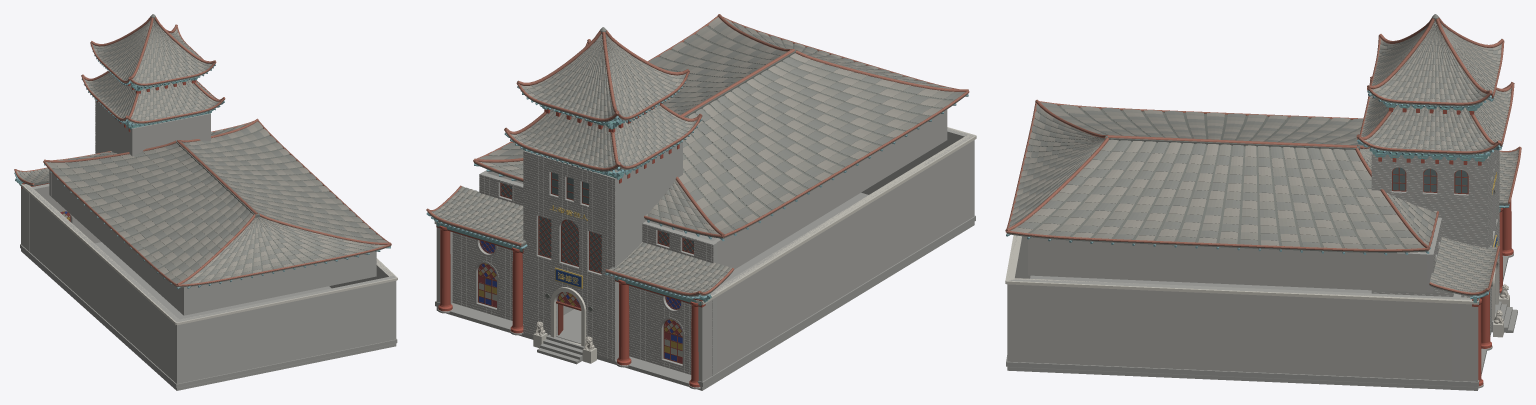
The model's file is hongkou-hongde-church-raw.glb.
The picture shows the model from 3 angles, left to right: view 1: azimuth 30°, elevation 25°; view 2: azimuth 150°, elevation 25°; view 3: azimuth 270°, elevation 25°; orthographic projection. The views are drawn at different scales.
Visible parts, largest first — view 1: 虹口多伦路59号鸿德堂; view 2: 虹口多伦路59号鸿德堂; view 3: 虹口多伦路59号鸿德堂.
Boxes of the visible parts, x1,y1,x2,y2 form: 虹口多伦路59号鸿德堂: [14, 14, 397, 390]; 虹口多伦路59号鸿德堂: [426, 14, 976, 390]; 虹口多伦路59号鸿德堂: [1005, 14, 1521, 390].
Bounding box in the file's own units: 24.17 × 21.55 × 33.04.
